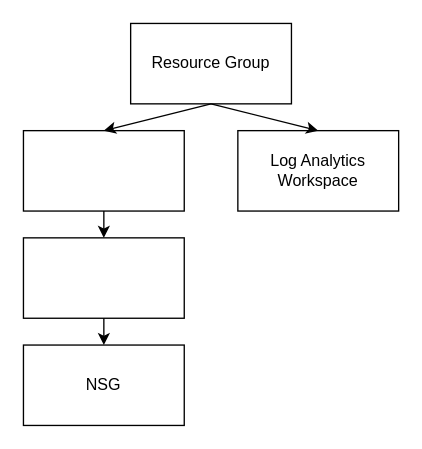
Some shapes in this 422 by 449 pixel diagram are drawn without their labels. Here are the shapes that lost their labels. From the top down, the box of each, then its label:
(22, 129, 184, 211): VNet
(22, 237, 184, 318): Subnet
